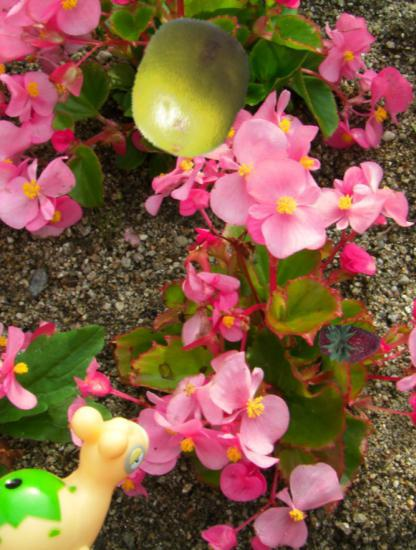Pomelo: (118, 17, 260, 159)
Strawberry: (318, 313, 382, 377)
